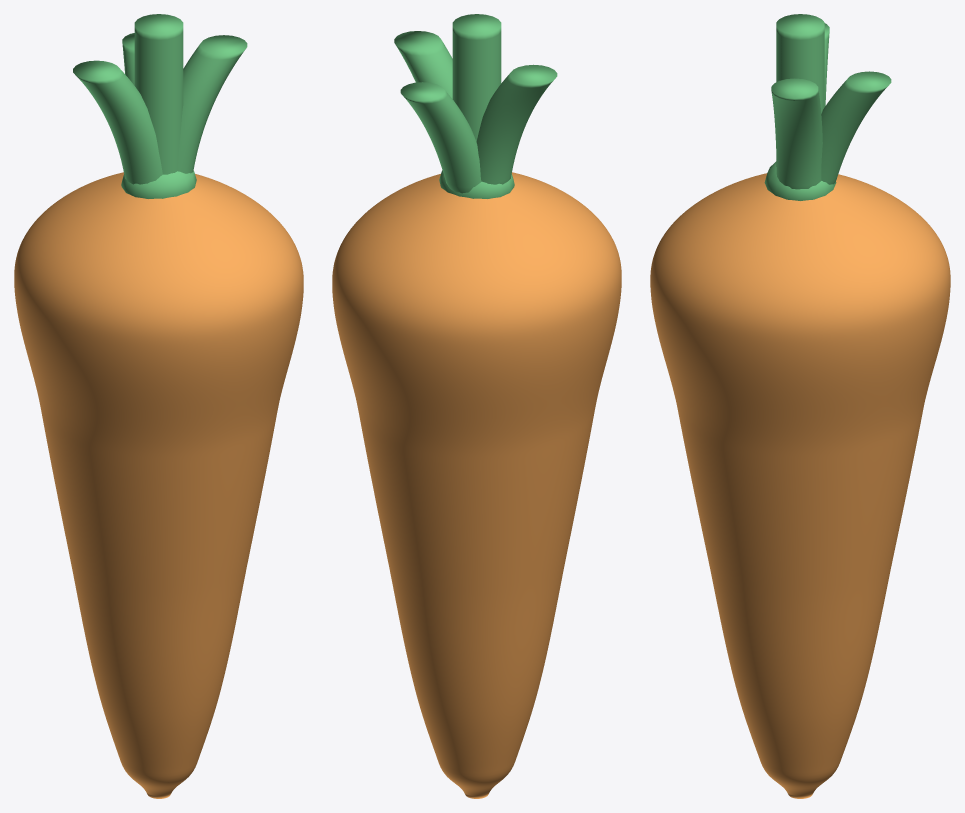
The model's file is Crop_Carrot_Normal_v001_blockout.fbx.
3 renders of one model, left to right at view 1: azimuth 30°, elevation 25°; view 2: azimuth 150°, elevation 25°; view 3: azimuth 270°, elevation 25°, orthographic.
Visible parts, largest first — view 1: Crop_Carrot_Normal_v001_Body_Blockout, LeafStem_Center, LeafStem_Left, LeafStem_Right, LeafStem_RoundedRoot_Knot, LeafStem_Back; view 2: Crop_Carrot_Normal_v001_Body_Blockout, LeafStem_Left, LeafStem_Center, LeafStem_Back, LeafStem_Right, LeafStem_RoundedRoot_Knot; view 3: Crop_Carrot_Normal_v001_Body_Blockout, LeafStem_Right, LeafStem_Back, LeafStem_Center, LeafStem_RoundedRoot_Knot.
Part boxes in pixels (x1,y1,x2,y2): Crop_Carrot_Normal_v001_Body_Blockout: (14,172,303,798); LeafStem_Center: (134,14,183,174); LeafStem_Left: (73,60,162,184); LeafStem_Right: (177,35,247,173); LeafStem_RoundedRoot_Knot: (121,170,196,198); LeafStem_Back: (122,33,134,85); Crop_Carrot_Normal_v001_Body_Blockout: (332,172,621,798); LeafStem_Left: (476,64,557,184); LeafStem_Center: (452,14,501,141); LeafStem_Back: (400,82,481,193); LeafStem_Right: (394,31,452,171); LeafStem_RoundedRoot_Knot: (439,170,514,198); Crop_Carrot_Normal_v001_Body_Blockout: (650,173,950,798); LeafStem_Right: (771,78,822,189); LeafStem_Back: (821,71,891,184); LeafStem_Center: (776,14,824,166); LeafStem_RoundedRoot_Knot: (764,161,836,200).
Size of the model in its own units: 99.72 by 297 by 105.
